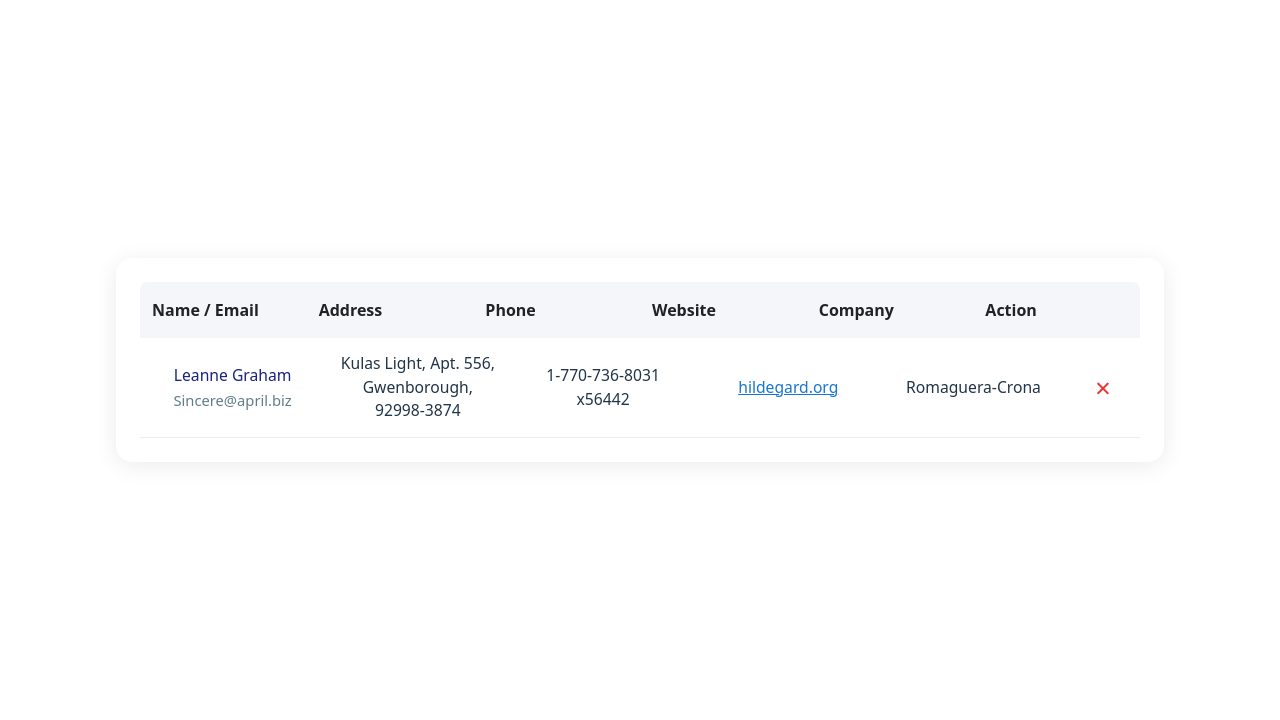
Test case: UserDirectoryFeature › opens and closes user detail modal
The width and height of the screenshot is (1280, 720).
Click the text "Leanne Graham": {"x": 233, "y": 375} [174,364,291,386]
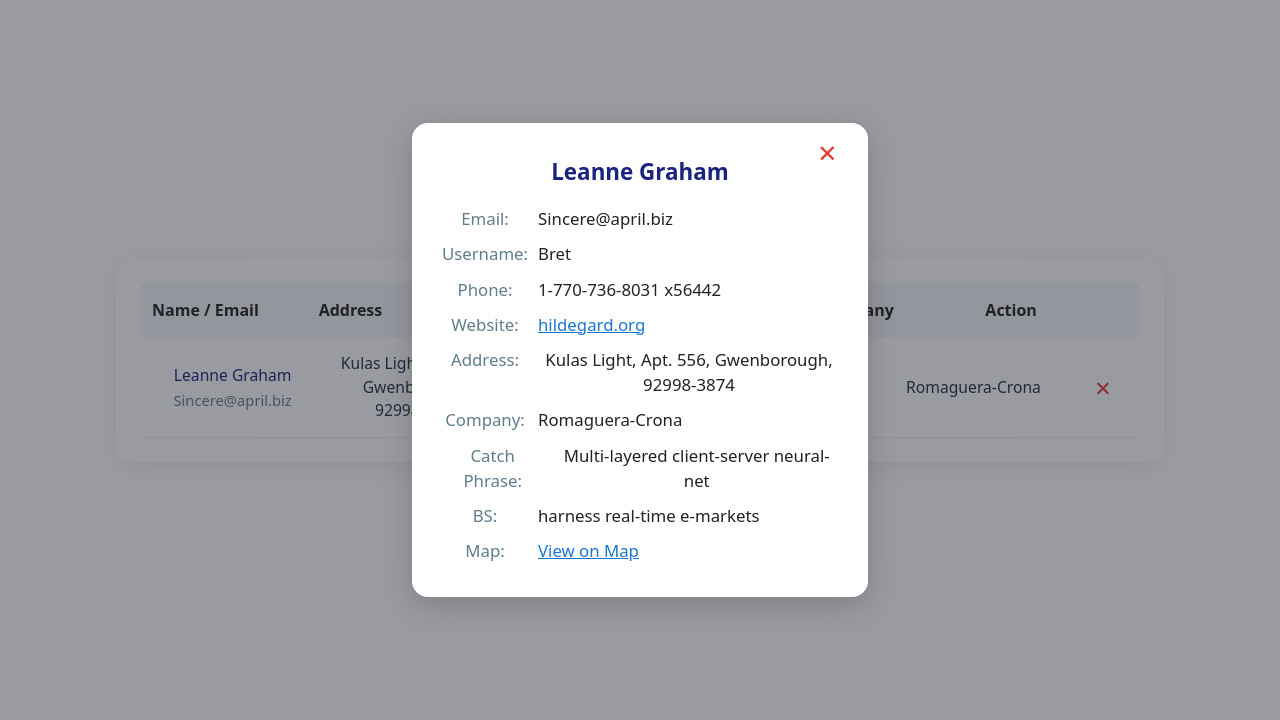
Now the text "Username:" is shown, box [440,242,530,267]
Click the button named "Close": {"x": 827, "y": 153} [798,135,856,171]
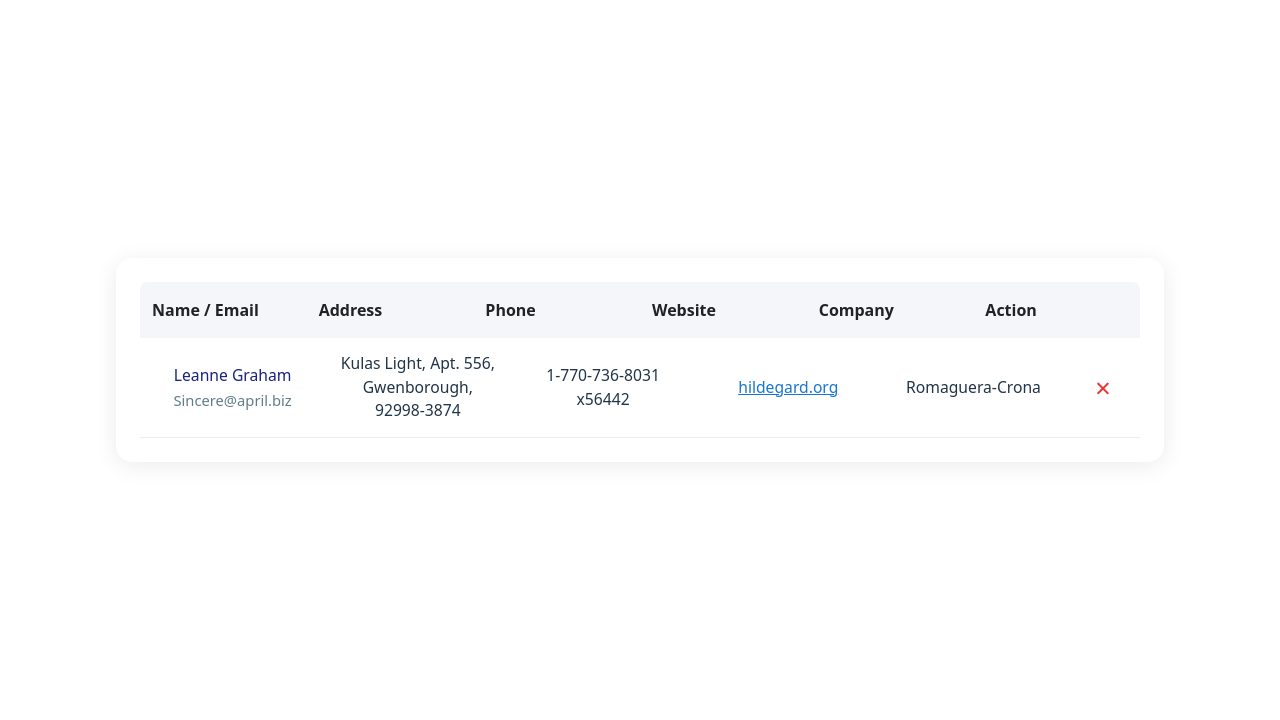
Now the text "Username:" is gone
